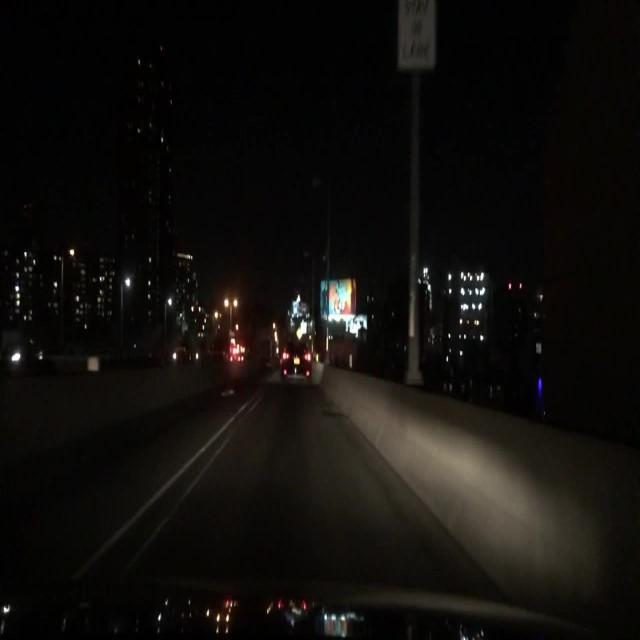normal: (271, 306, 324, 397)
